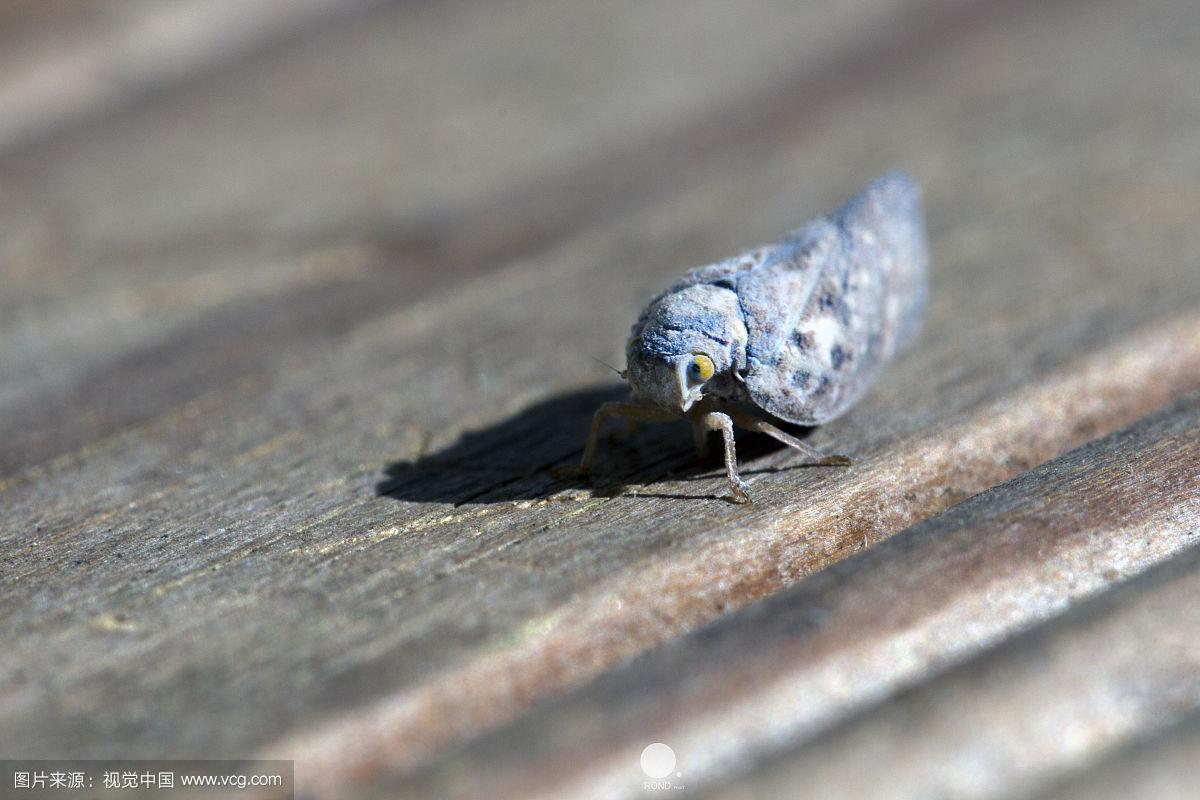Cicadellidae: (591, 184, 928, 490)
